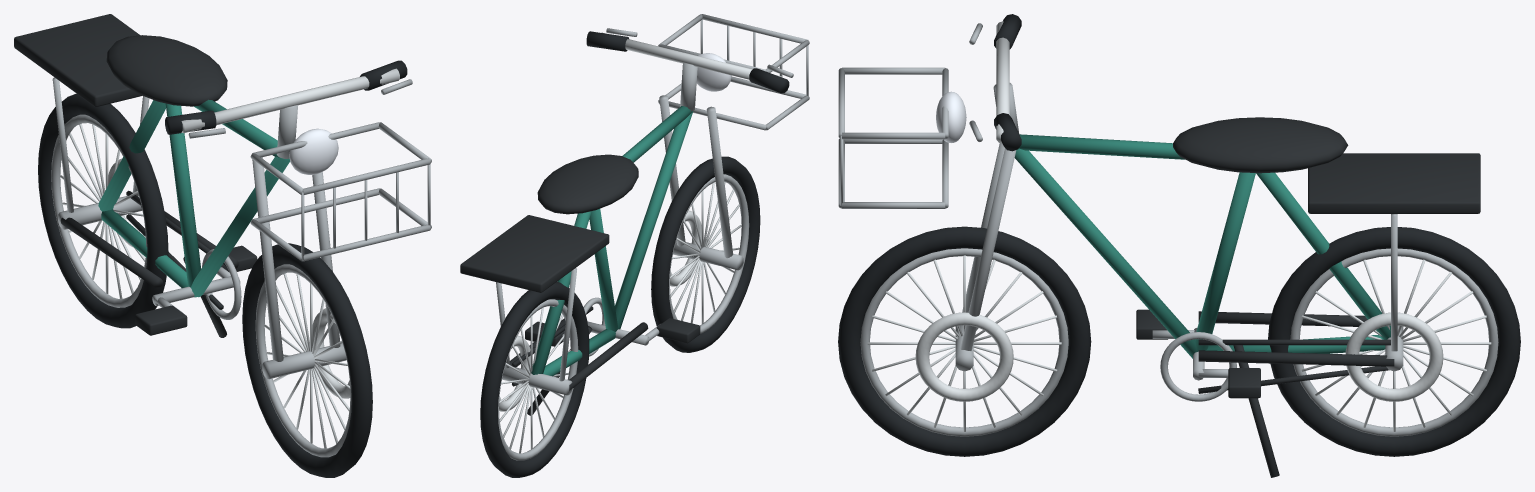
File: city-bicycle.glb
3 views of the same model, side by side, from view 1: azimuth 30°, elevation 25°; view 2: azimuth 150°, elevation 25°; view 3: azimuth 270°, elevation 25° (orthographic). The views are drawn at different scales.
Visible parts, largest first — view 1: Rim, Swing arm, wheel-front, Spoke, Frame, wheel-rear, Headlight, Grip; view 2: Swing arm, Rim, Frame, Spoke, wheel-rear, wheel-front, Grip, Headlight; view 3: Swing arm, Rim, Spoke, wheel-front, wheel-rear, Frame, Grip, Headlight.
Part boxes in pixels (x1=…): Rim: x1=51, y1=77, x2=431, y2=457; Swing arm: x1=14, y1=14, x2=257, y2=337; wheel-front: x1=242, y1=243, x2=372, y2=477; Spoke: x1=60, y1=68, x2=399, y2=448; Frame: x1=98, y1=99, x2=290, y2=297; wheel-rear: x1=38, y1=93, x2=168, y2=328; Headlight: x1=289, y1=128, x2=338, y2=174; Grip: x1=165, y1=60, x2=407, y2=134; Swing arm: x1=460, y1=154, x2=700, y2=415; Rim: x1=496, y1=14, x2=809, y2=460; Frame: x1=531, y1=106, x2=693, y2=376; Spoke: x1=499, y1=32, x2=782, y2=453; wheel-rear: x1=480, y1=281, x2=589, y2=477; wheel-front: x1=651, y1=156, x2=760, y2=352; Grip: x1=586, y1=31, x2=789, y2=93; Headlight: x1=696, y1=53, x2=731, y2=91; Swing arm: x1=1136, y1=117, x2=1480, y2=477; Rim: x1=838, y1=23, x2=1498, y2=436; Spoke: x1=867, y1=21, x2=1491, y2=431; wheel-front: x1=838, y1=226, x2=1091, y2=456; wheel-rear: x1=1268, y1=227, x2=1520, y2=456; Frame: x1=1014, y1=134, x2=1390, y2=358; Grip: x1=994, y1=14, x2=1021, y2=151; Headlight: x1=936, y1=91, x2=966, y2=142.
Bounding box in the file's own units: 0.749 × 1.1 × 1.78.
